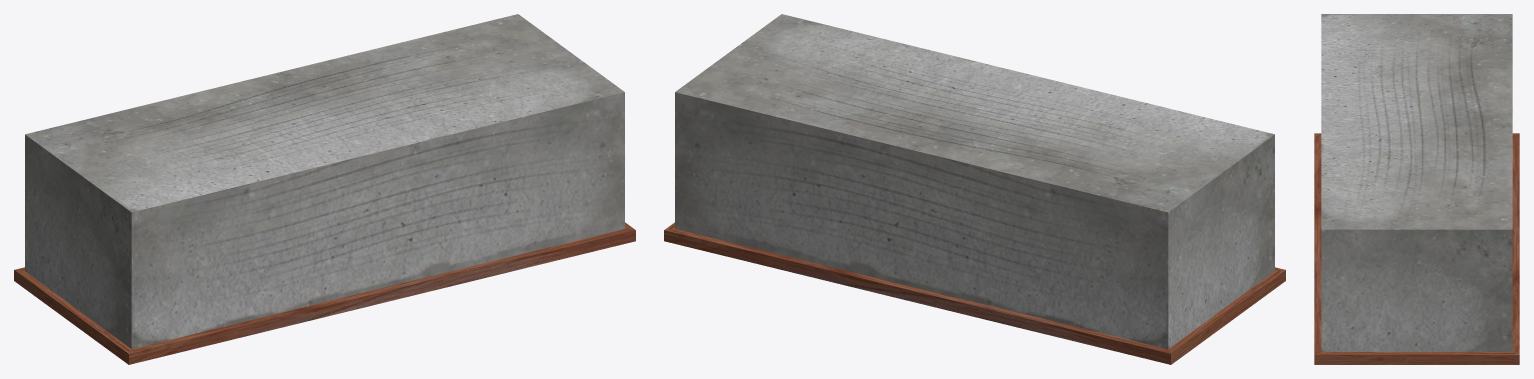
Rendered from bench-01.glb.
3 views of the same model, side by side, from view 1: azimuth 30°, elevation 25°; view 2: azimuth 150°, elevation 25°; view 3: azimuth 270°, elevation 25° (orthographic). The views are drawn at different scales.
Parts seen in each view (by area): view 1: Bench_01; view 2: Bench_01; view 3: Bench_01.
Boxes of the visible parts, x1=… form: Bench_01: x1=14, y1=14, x2=635, y2=364; Bench_01: x1=664, y1=14, x2=1285, y2=364; Bench_01: x1=1314, y1=14, x2=1519, y2=364.
Bounding box in the file's own units: 1.97 × 0.5501 × 0.7734.
1 material, 1 textured.
